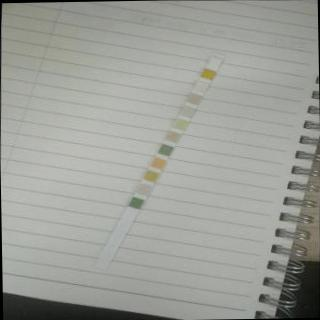mark: (194, 82, 207, 92), (145, 170, 157, 180), (152, 158, 164, 168), (202, 68, 214, 78), (210, 56, 222, 66), (130, 198, 142, 208), (138, 184, 150, 193), (160, 145, 170, 155), (181, 106, 192, 115), (168, 132, 178, 141), (190, 94, 200, 103), (176, 119, 186, 127)
